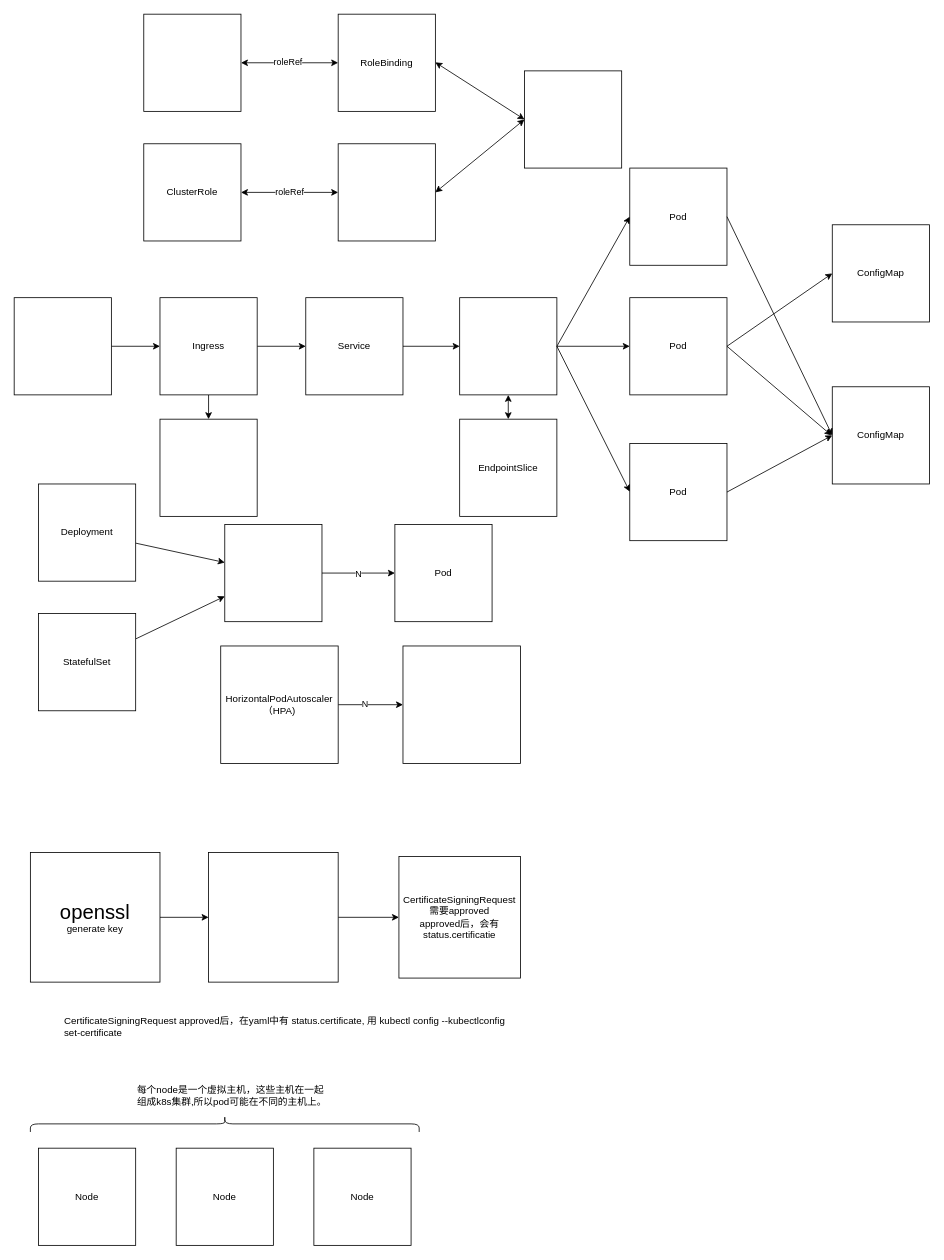
The diagram is 944 pixels wide and 1260 high, and some of its shapes have lost their labels. Each missing label, with the centre of its shape:
ClusterRoleBinding: the point at 386,192
Endpoints: the point at 508,346
IngressClass: the point at 208,467
openssl Generate CSR: the point at 273,917
Pod 需要request，否则HPA无法起作用。: the point at 461,704
ReplicaSet: the point at 273,573
Resoures: the point at 573,119
Role: the point at 192,62
web: the point at 62,346
